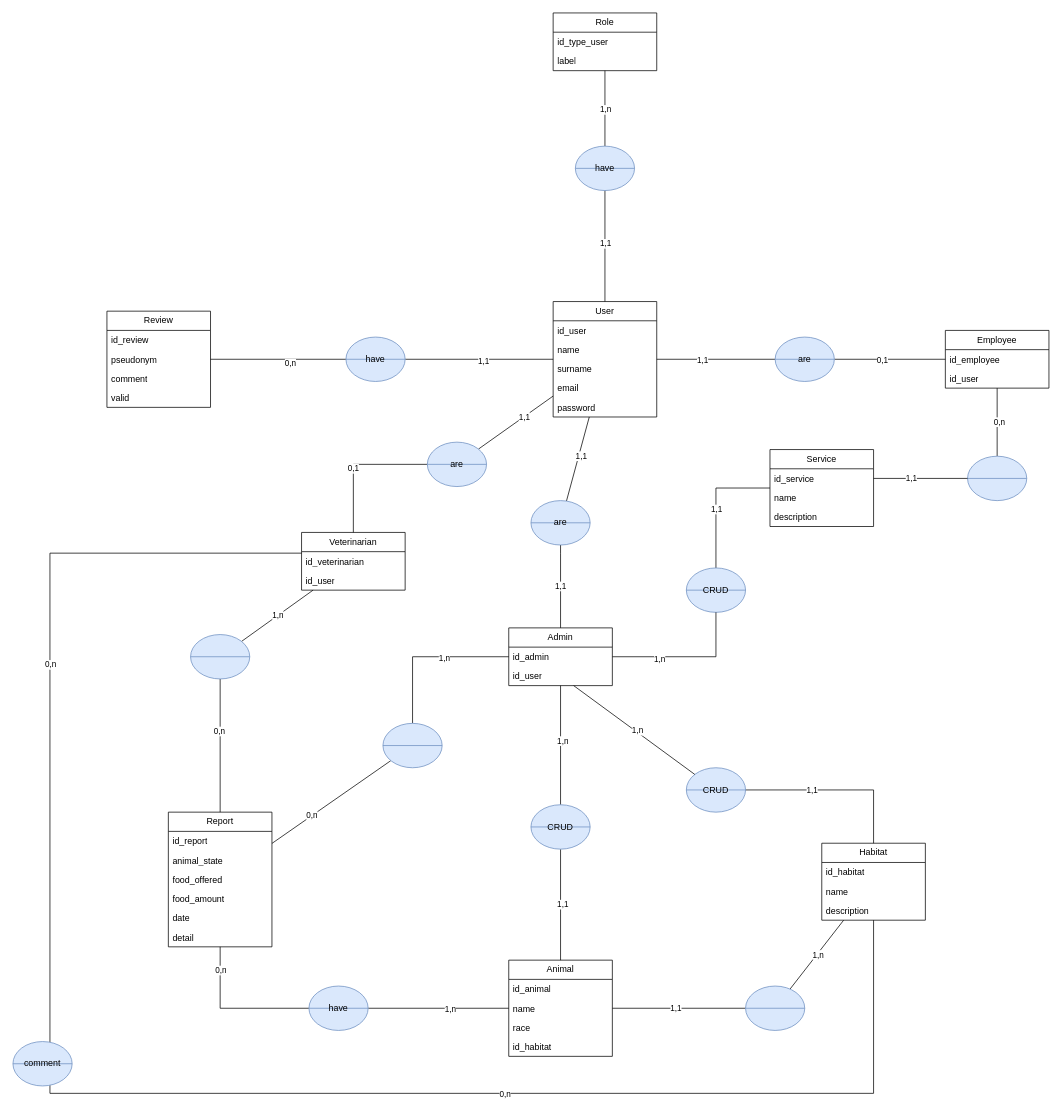
The diagram is 1062 pixels wide and 1111 high, and some of its shapes have lost their labels. The centre of each missing label's shape, as x and y in pixels:
consult: pixel 412 745
in: pixel 775 1007
modifi: pixel 997 478
write: pixel 220 656
